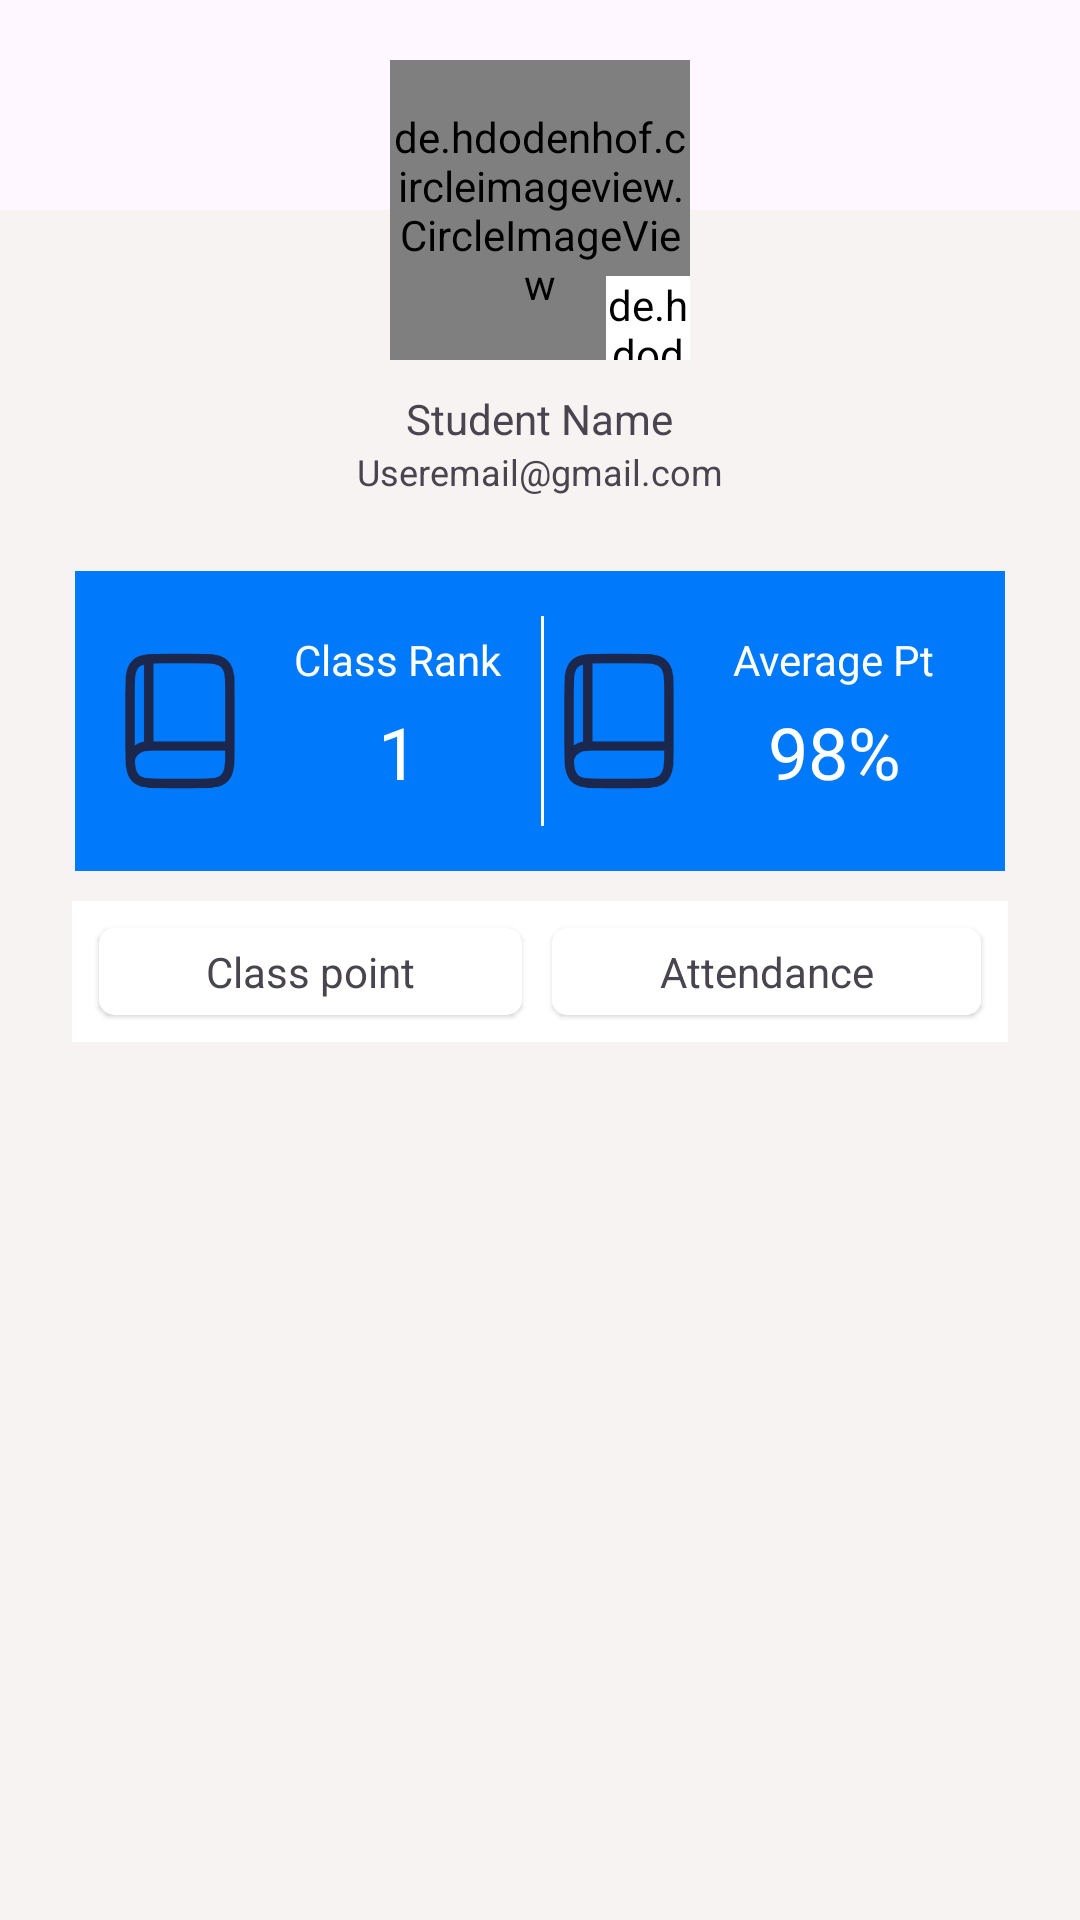

Named icons in this screenshot (1080*1920) and their centers, [x,y]:
book: [180,721], [619,721]
